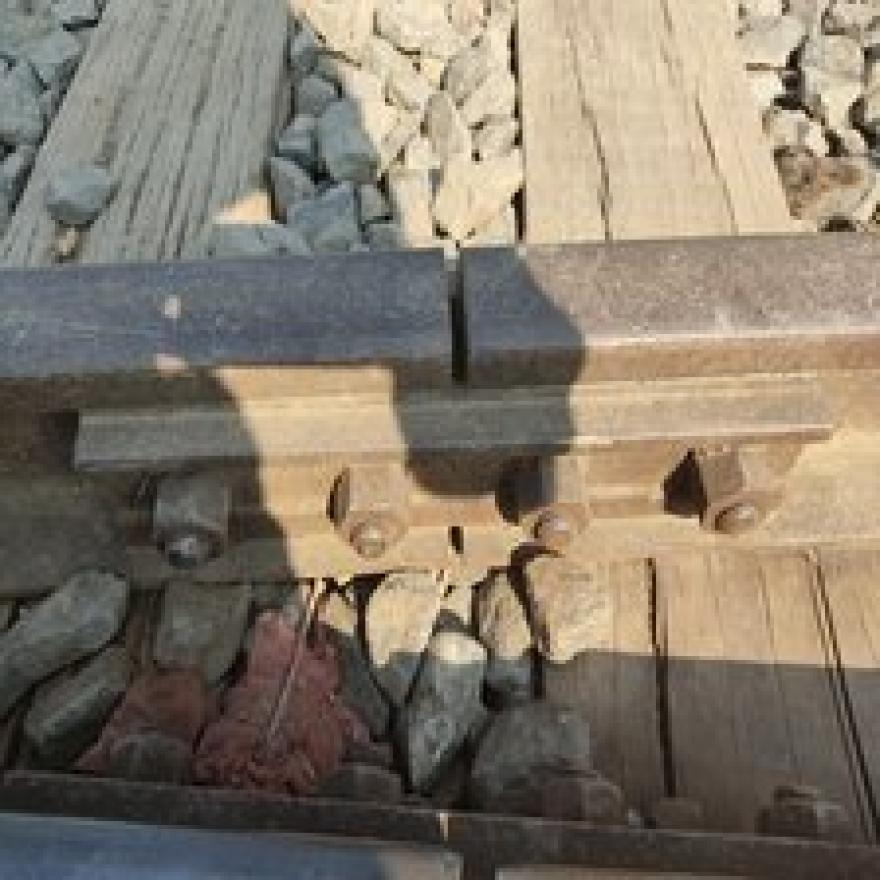railway-gap: (349, 223, 569, 420)
